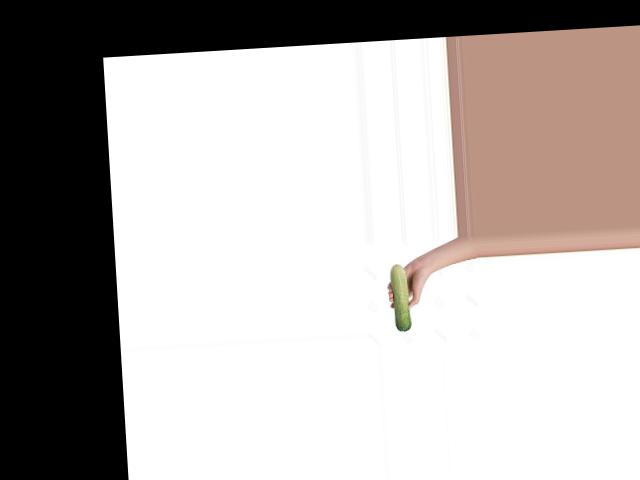cucumber: (390, 262, 413, 332)
